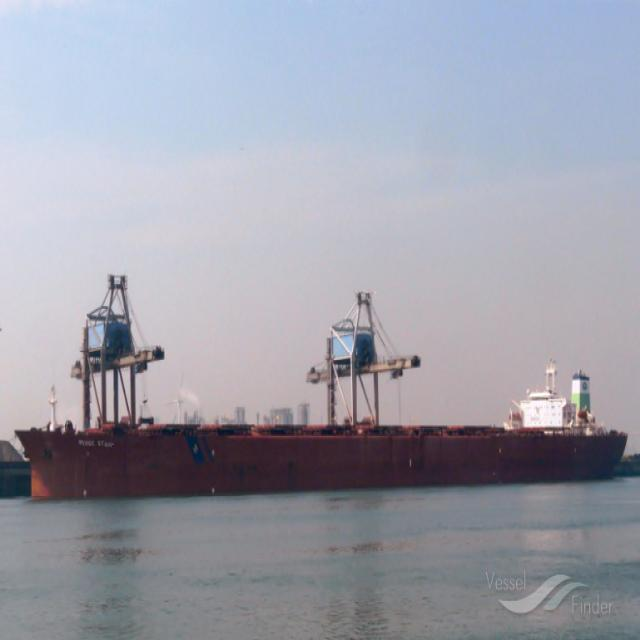OCR: (71, 436, 112, 450)
